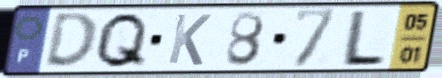7: (293, 6, 342, 71)
8: (222, 10, 266, 68)
D: (41, 10, 100, 71)
K: (165, 12, 214, 68)
L: (336, 8, 389, 69)
Q: (91, 10, 152, 70)
